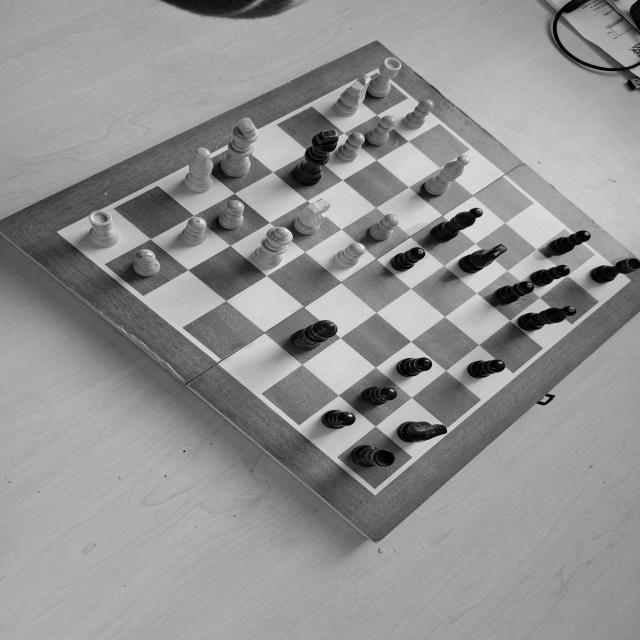chess-table-corners: (56, 224, 78, 240), (364, 482, 385, 496), (369, 68, 384, 78), (620, 276, 634, 286)
